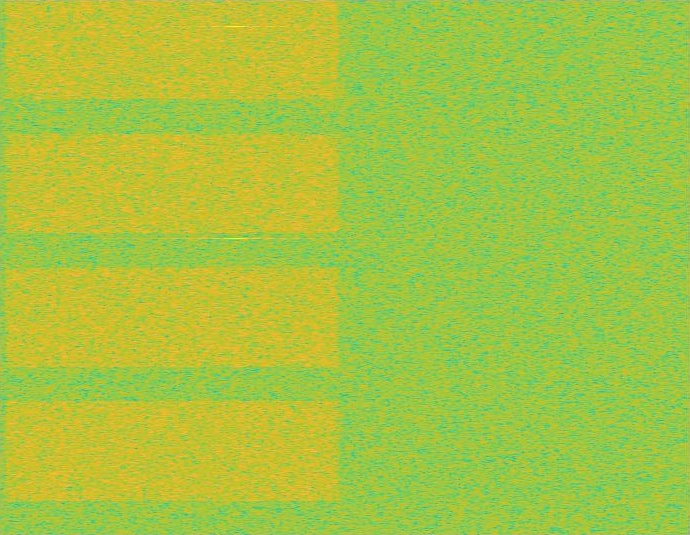5G: (0, 0, 345, 534)
Radar: (229, 0, 243, 534)
